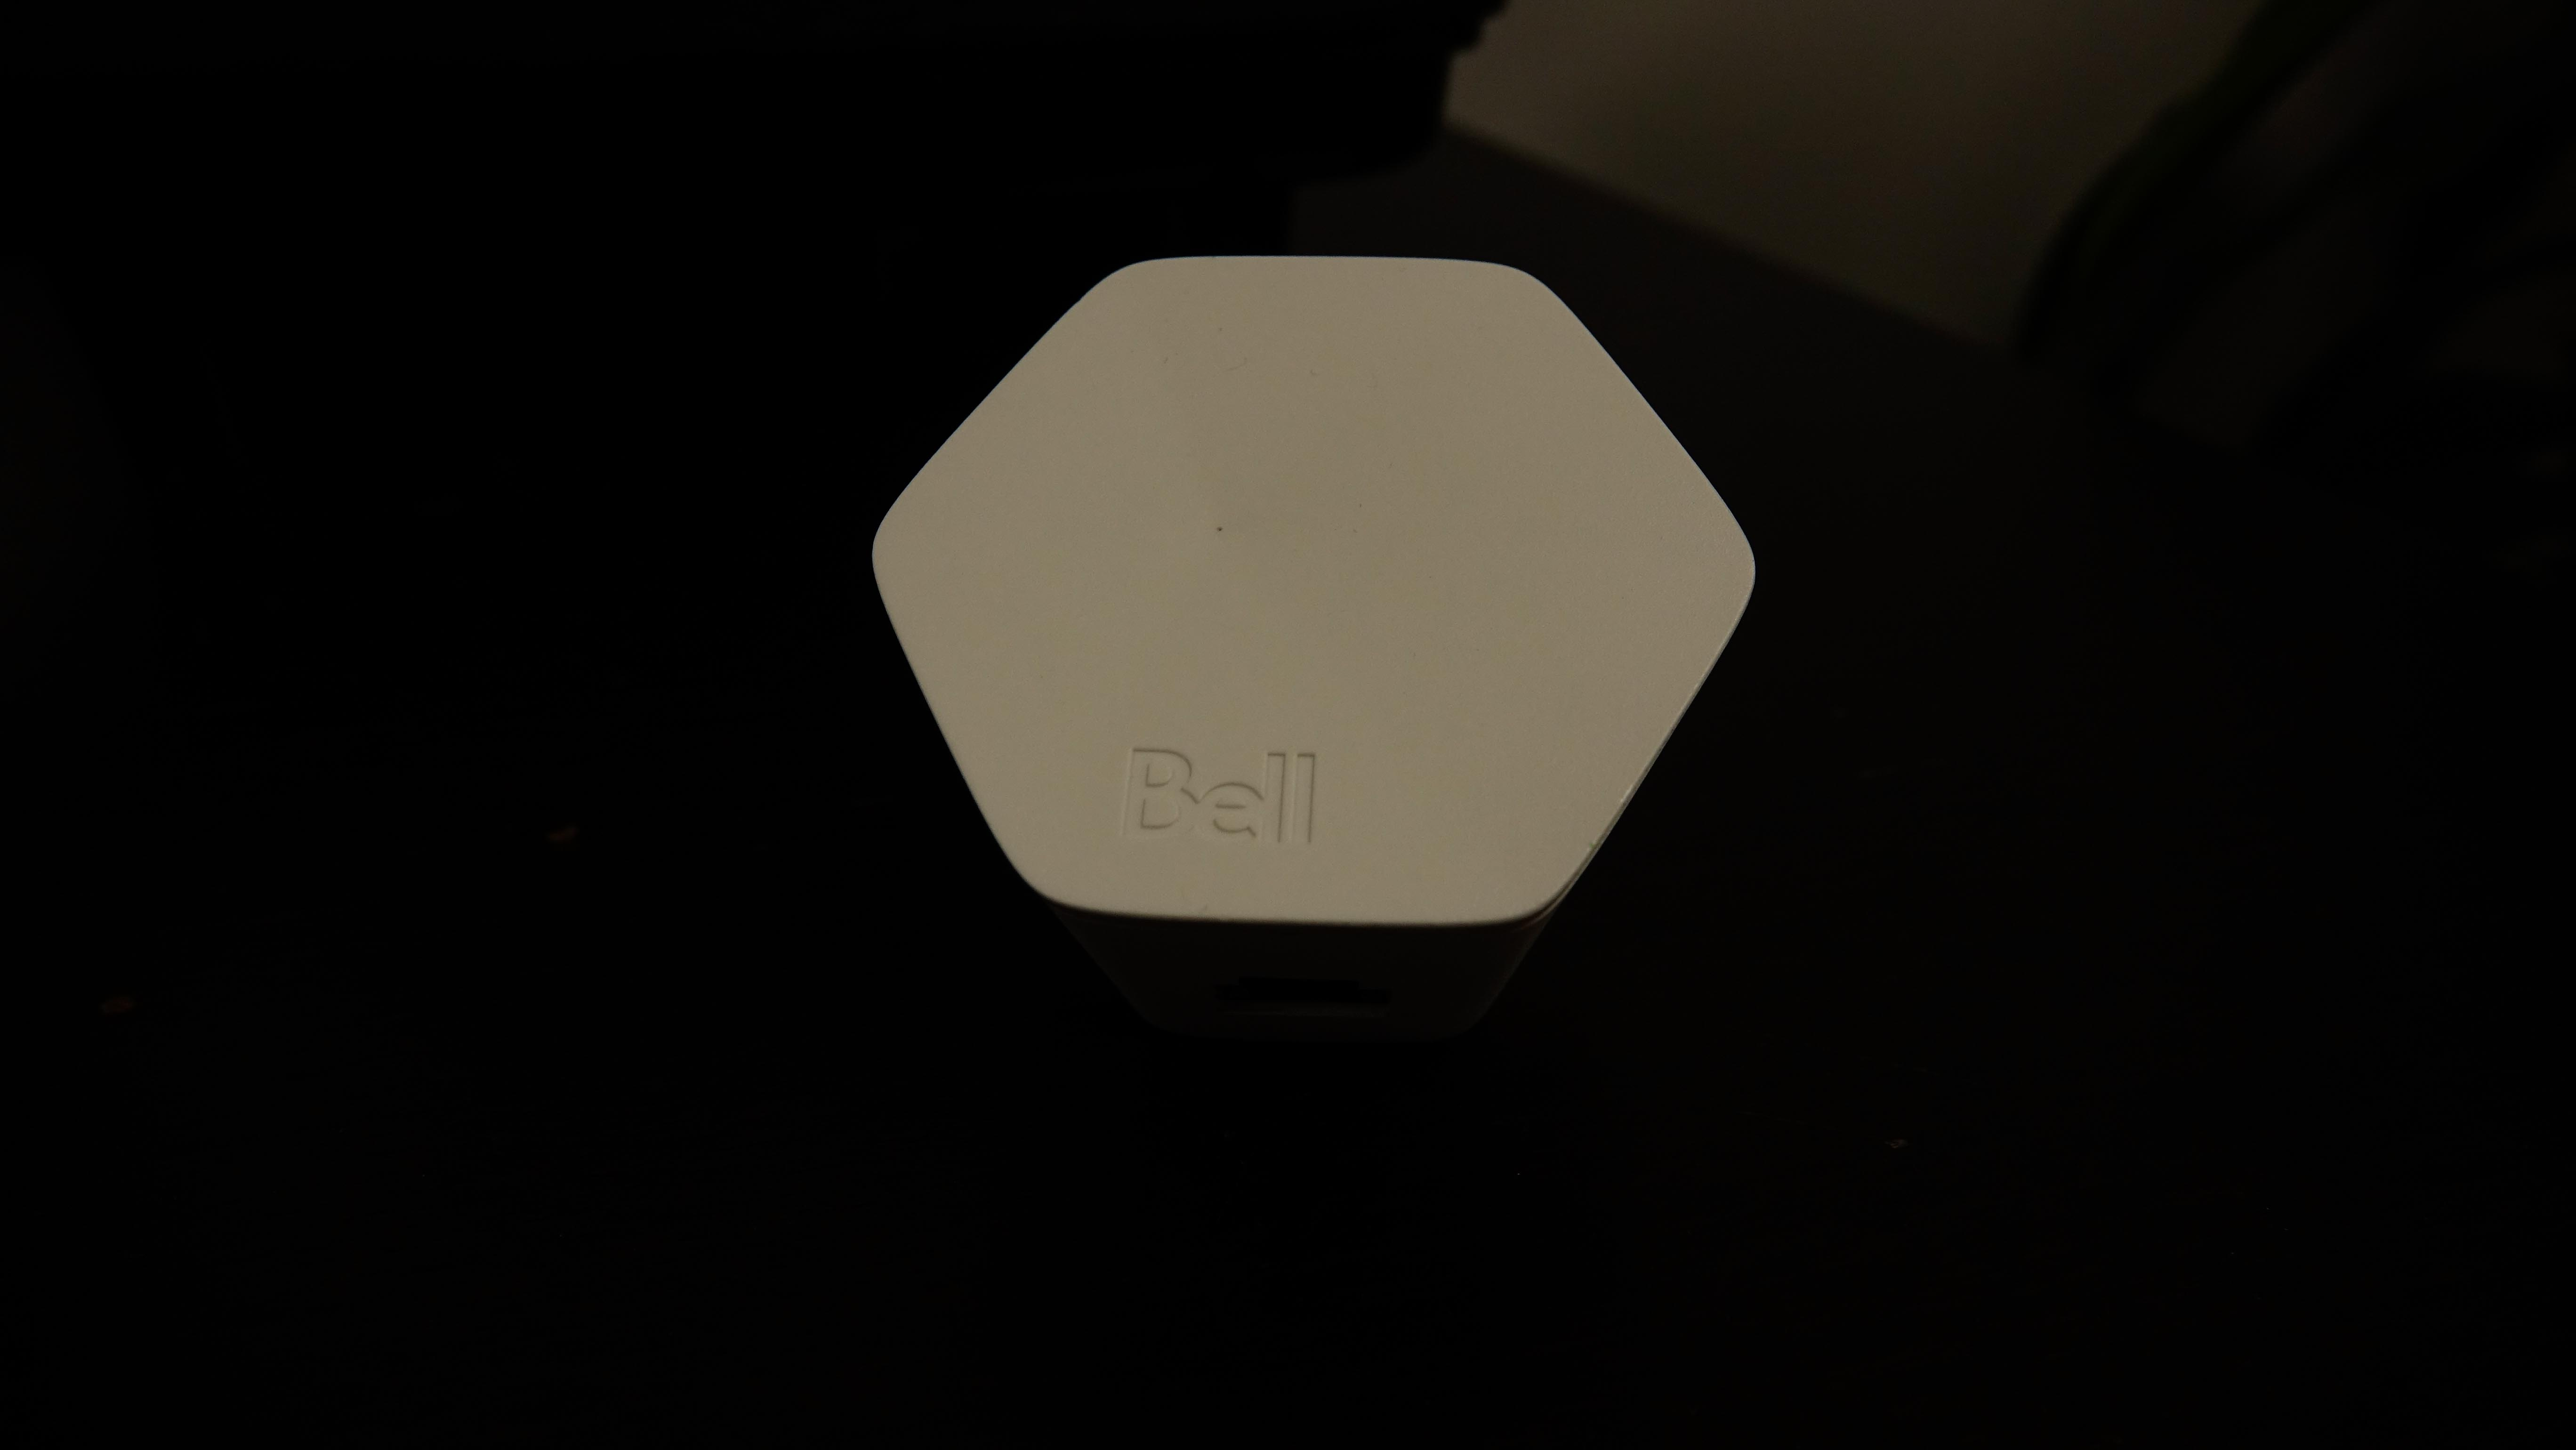pod: (860, 246, 1780, 1050)
